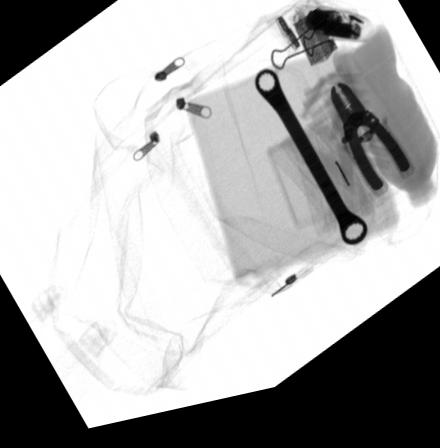Pliers: (328, 95, 413, 217)
Wrench: (252, 80, 367, 263)
